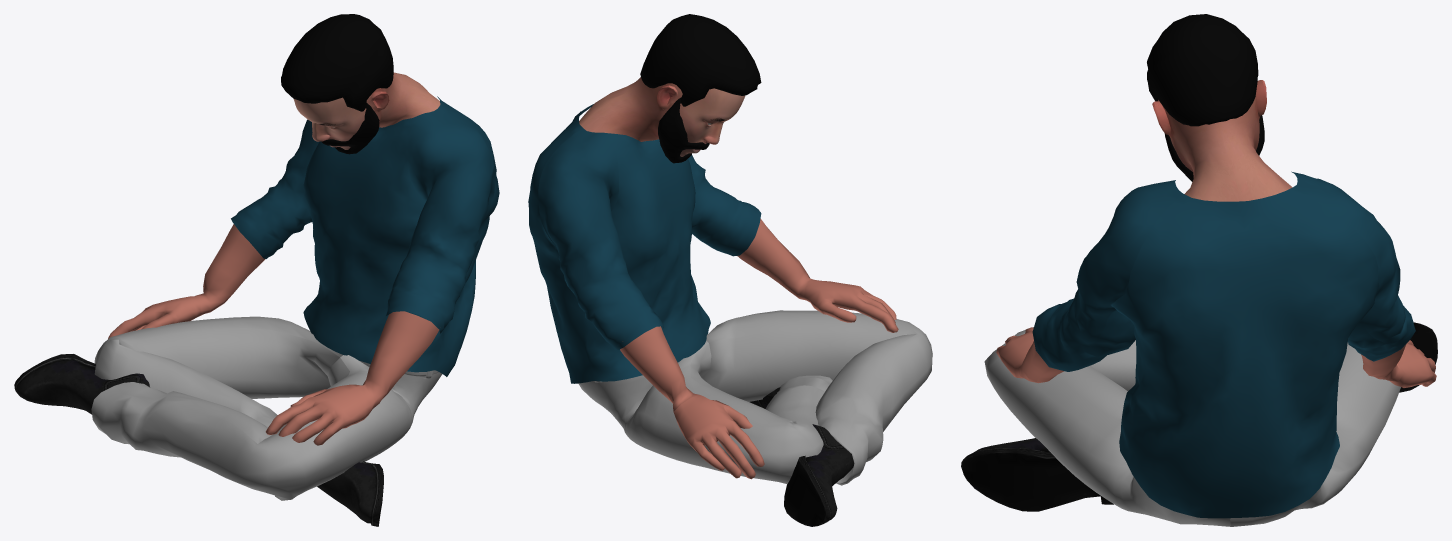
File: ManSittingUnderGulmohar.gltf
3 renders of one model, left to right at view 1: azimuth 30°, elevation 25°; view 2: azimuth 150°, elevation 25°; view 3: azimuth 270°, elevation 25°, orthographic. The views are drawn at different scales.
Parts seen in each view (by area): view 1: Tshirt_Fabric_0, Object_21, Object_19, Object_15, Object_23, Object_11, Object_17; view 2: Tshirt_Fabric_0, Object_21, Object_19, Object_15, Object_11, Object_23, Object_17; view 3: Tshirt_Fabric_0, Object_21, Object_15, Object_11, Object_23, Object_19, Object_17.
Part boxes in pixels (bbox=[...]): Tshirt_Fabric_0: bbox=[231, 96, 499, 376]; Object_21: bbox=[91, 316, 442, 500]; Object_19: bbox=[108, 224, 439, 445]; Object_15: bbox=[281, 14, 393, 111]; Object_23: bbox=[14, 354, 383, 526]; Object_11: bbox=[293, 72, 440, 149]; Object_17: bbox=[321, 103, 379, 154]; Tshirt_Fabric_0: bbox=[528, 104, 761, 383]; Object_21: bbox=[578, 310, 932, 485]; Object_19: bbox=[620, 218, 898, 479]; Object_15: bbox=[640, 14, 761, 106]; Object_11: bbox=[579, 77, 745, 156]; Object_23: bbox=[749, 387, 854, 526]; Object_17: bbox=[658, 97, 709, 163]; Tshirt_Fabric_0: bbox=[1032, 171, 1415, 518]; Object_21: bbox=[984, 327, 1400, 526]; Object_15: bbox=[1147, 14, 1258, 126]; Object_11: bbox=[1152, 80, 1292, 201]; Object_23: bbox=[961, 322, 1437, 511]; Object_19: bbox=[996, 327, 1436, 387]; Object_17: bbox=[1164, 115, 1264, 181].
Bounding box in the file's own units: 7.74 × 8.63 × 7.19.
Materials: 8 (8 with a texture image).
